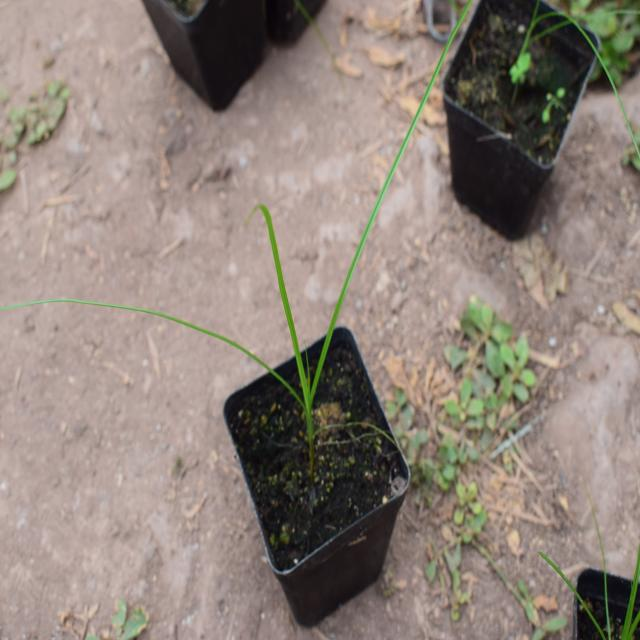sedge: (12, 55, 453, 451)
